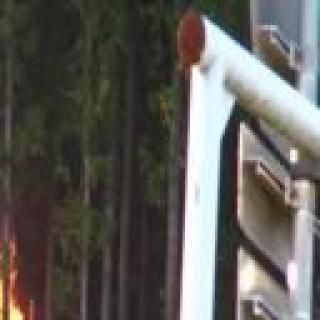fire: (0, 111, 41, 320)
